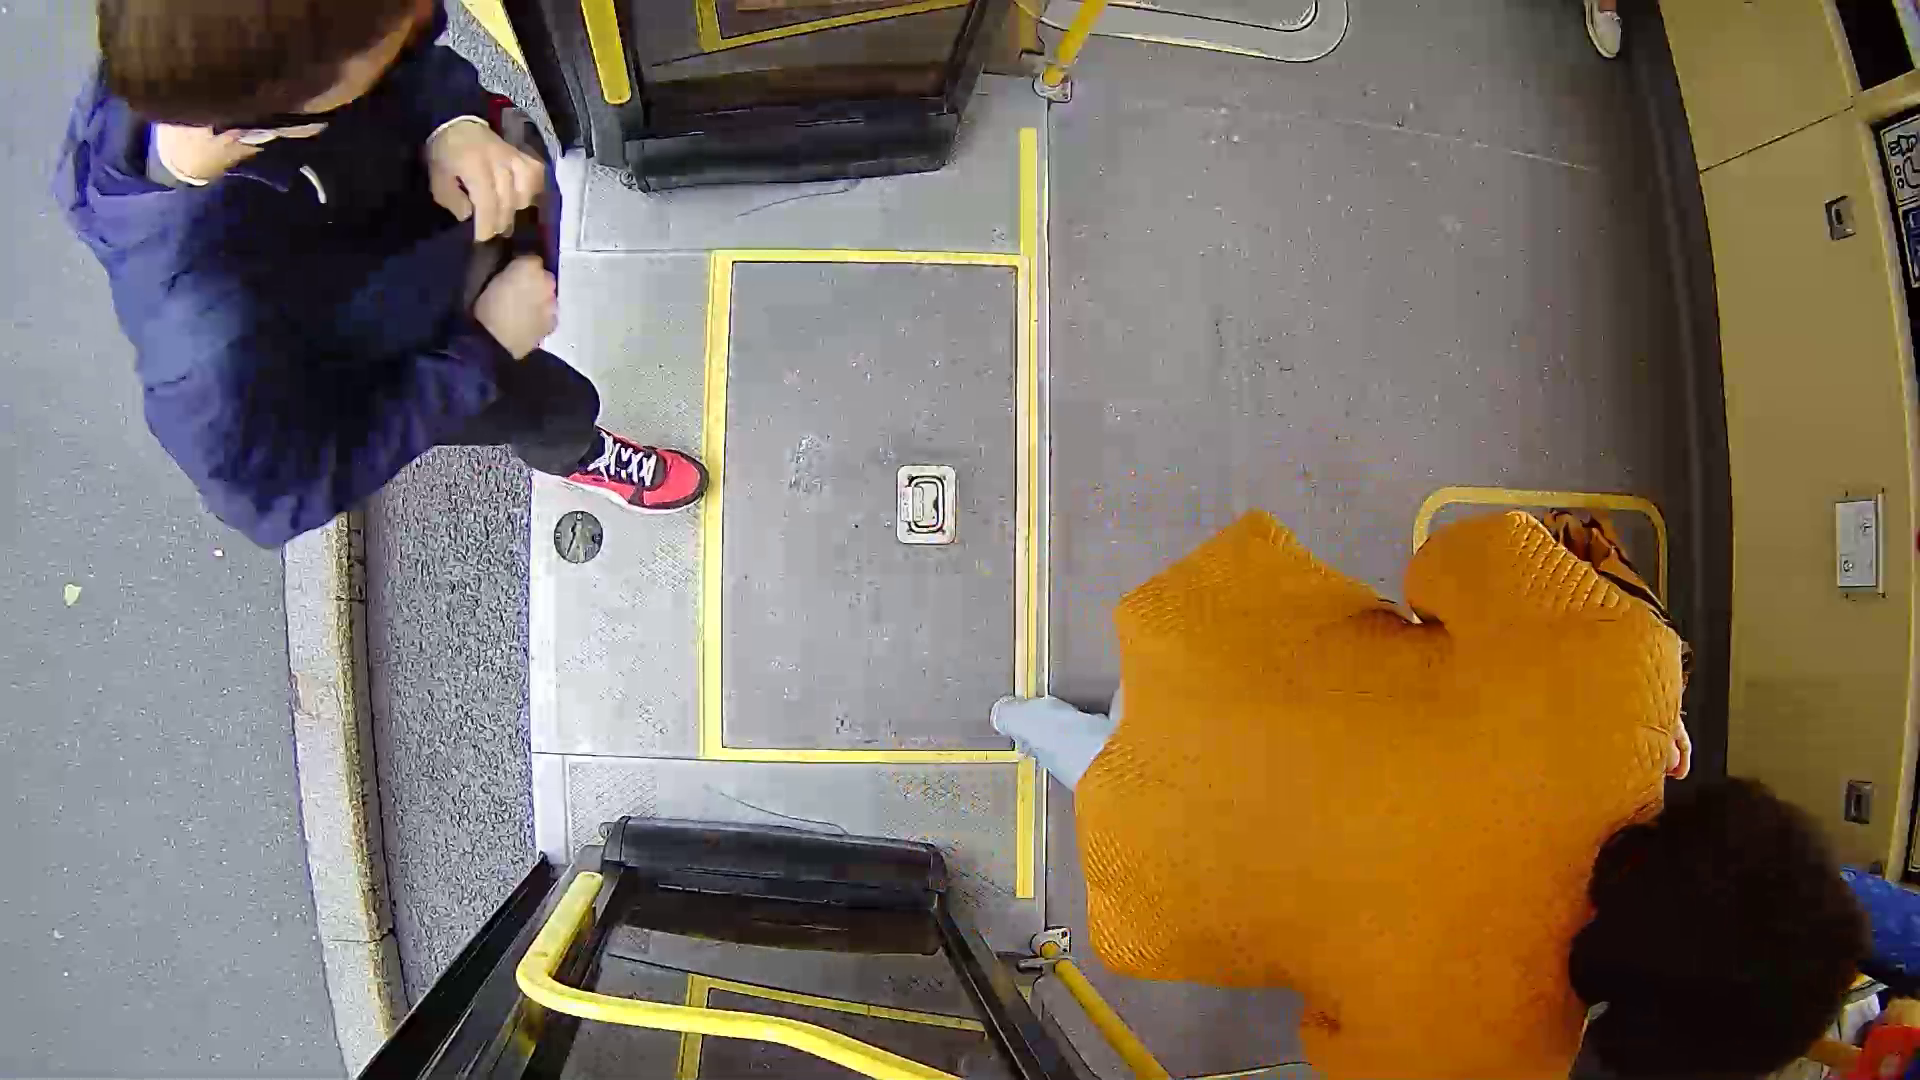person: (42, 1, 847, 591)
